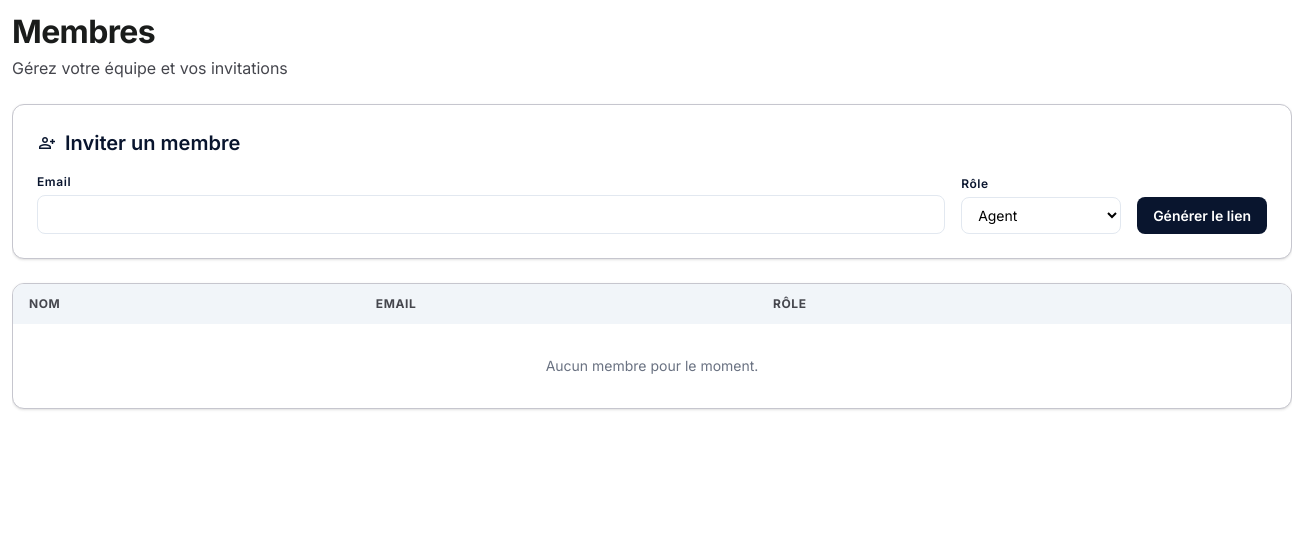
Test: Membres › affiche « Lien copié » après la copie du lien d’invitation
Step 1. Type "agent@example.com" into the field → (491, 214), box left=37, top=195, right=945, bottom=234
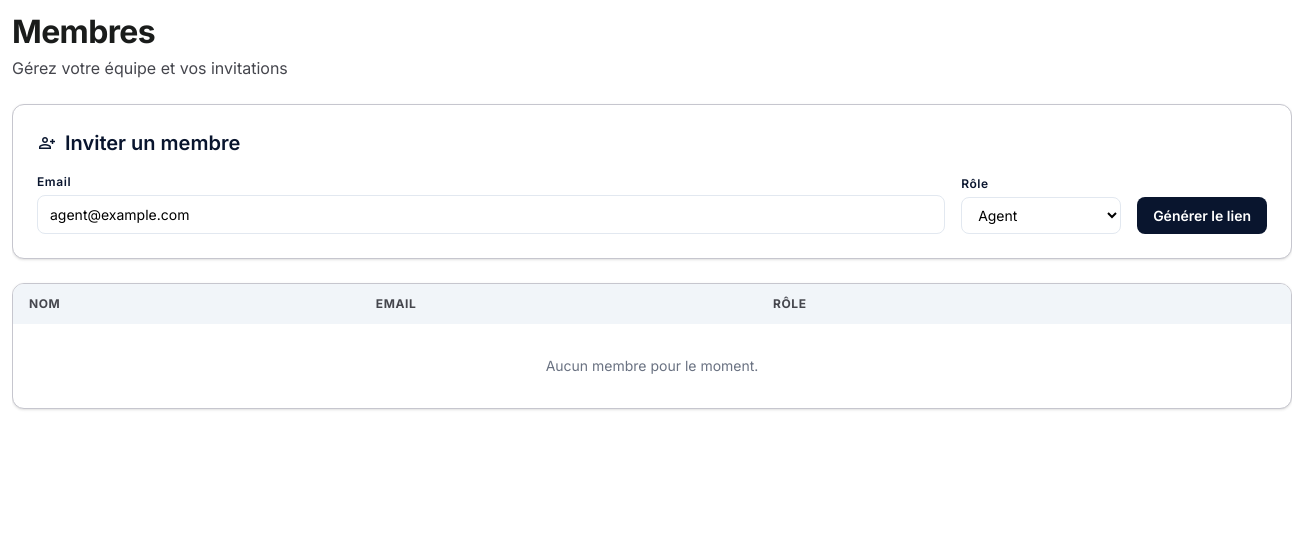
Step 2. Click the button "Générer le lien" → (1202, 216), box left=1137, top=197, right=1267, bottom=234
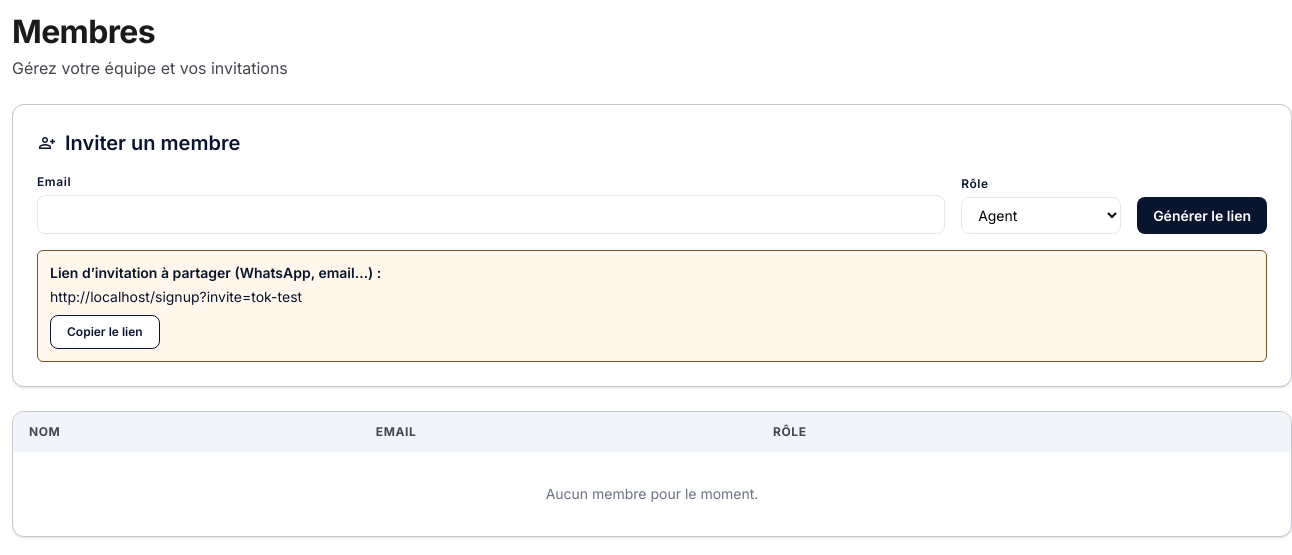
Result: the text "Lien d’invitation à partager (WhatsApp, email…) :" is shown at left=50, top=264, right=381, bottom=281
Step 3. Click the button "Copier le lien" → (105, 332), box left=50, top=315, right=160, bottom=349
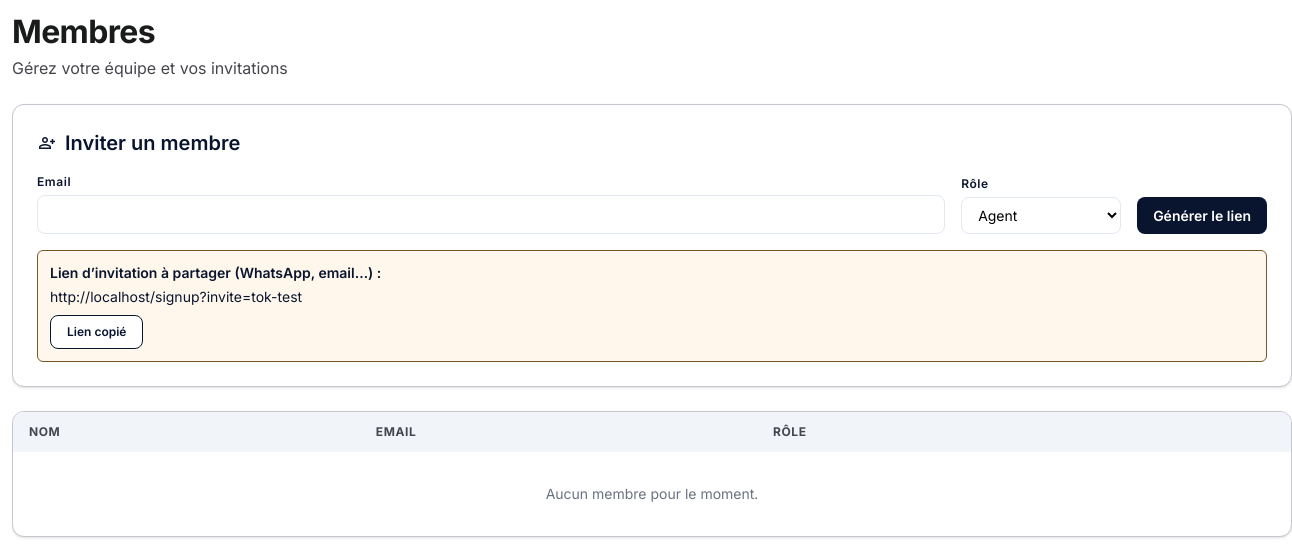
Result: the button "Lien copié" is shown at left=50, top=315, right=143, bottom=349
